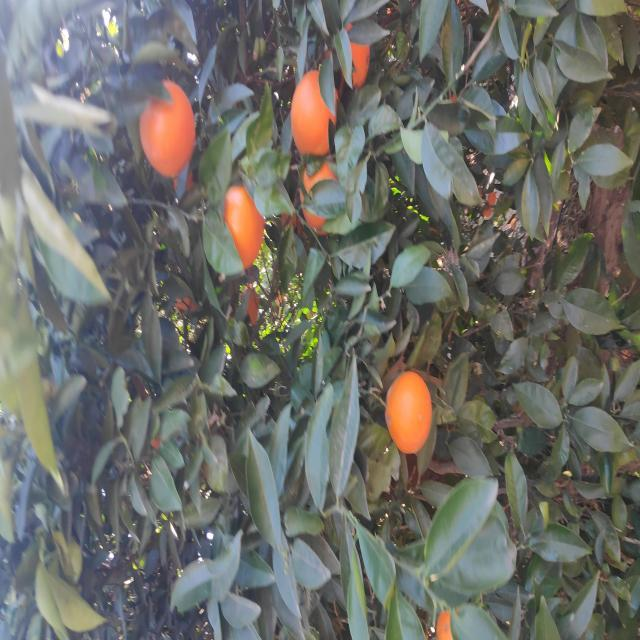Jeruk Sudah Matang: (366, 216, 472, 268), (478, 286, 573, 338), (471, 141, 557, 196), (182, 385, 275, 433), (402, 301, 488, 336), (553, 338, 622, 372), (313, 238, 361, 264), (0, 436, 44, 458), (457, 260, 462, 262)
